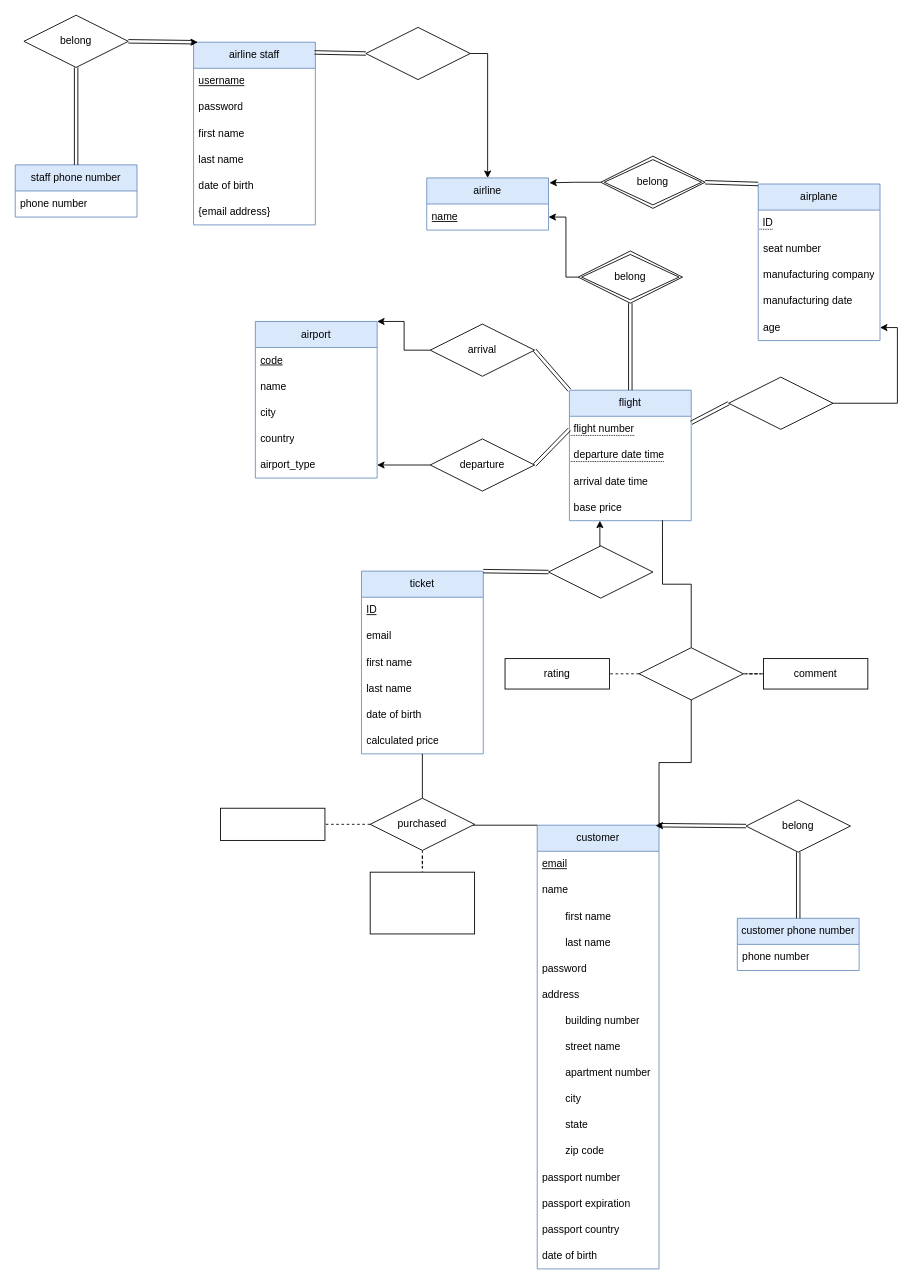
This 920x1284 diagram has some shape labels left out. Here are the shapes that lost their labels. From the top down, the centre of each, then its label:
At pixel 417 53: "work".
At pixel 780 402: "airplane_flight".
At pixel 600 571: "of".
At pixel 690 673: "rate".
At pixel 272 823: "purchased date time".
At pixel 422 902: "card type card number name expiration date".
